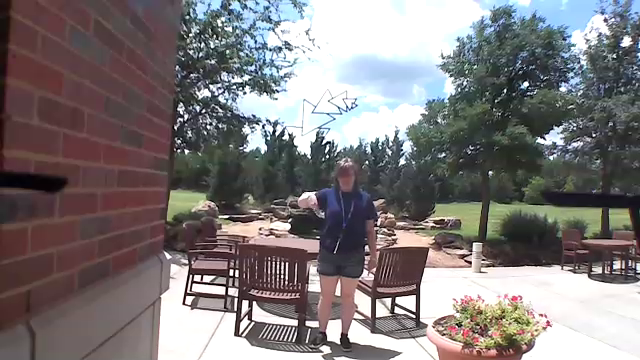down: (304, 191, 320, 217)
